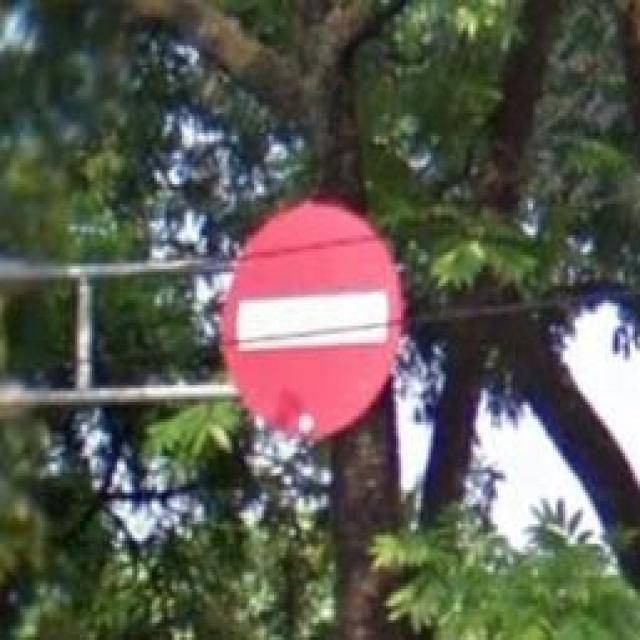traffic sign: (219, 204, 401, 442)
